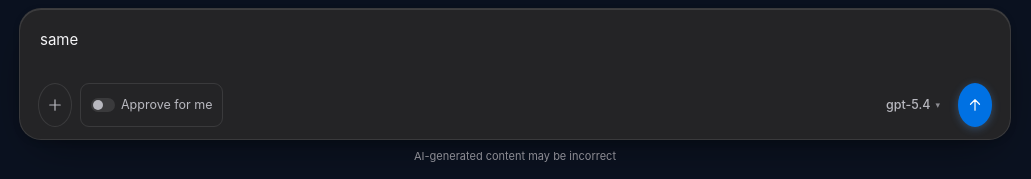
Scenario: Composer › trims recalled prompts and deduplicates consecutive submissions
Step 1. Click the button named "send" → (975, 105), box [958,83,992,127]
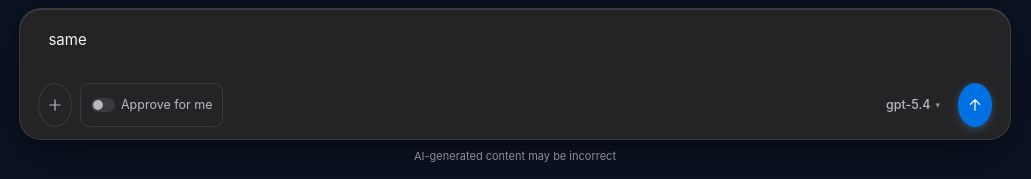
Step 2. Click the button named "send" → (975, 105), box [958,83,992,127]
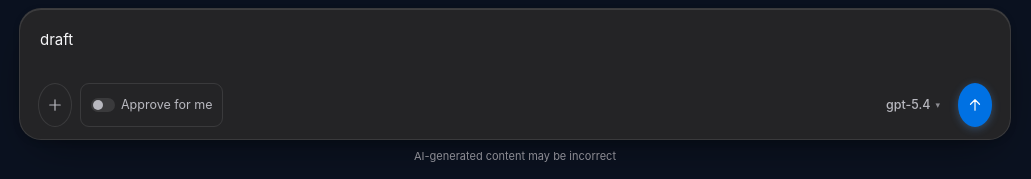
Step 3. Press ArrowUp in the text box, box [38,25,992,68]
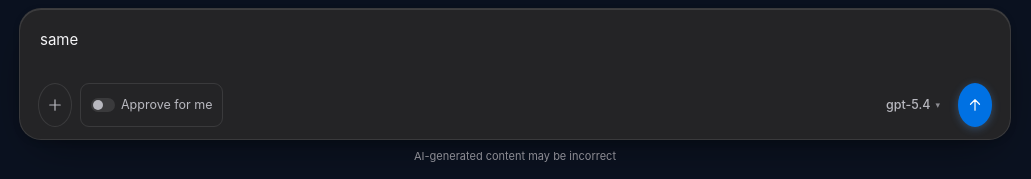
Check: the text box holds "same"
Step 4. Press ArrowDown in the text box, box [38,25,992,68]
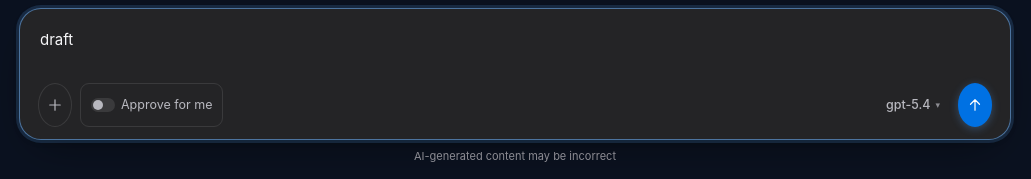
Check: the text box holds "draft", box [38,25,992,68]
